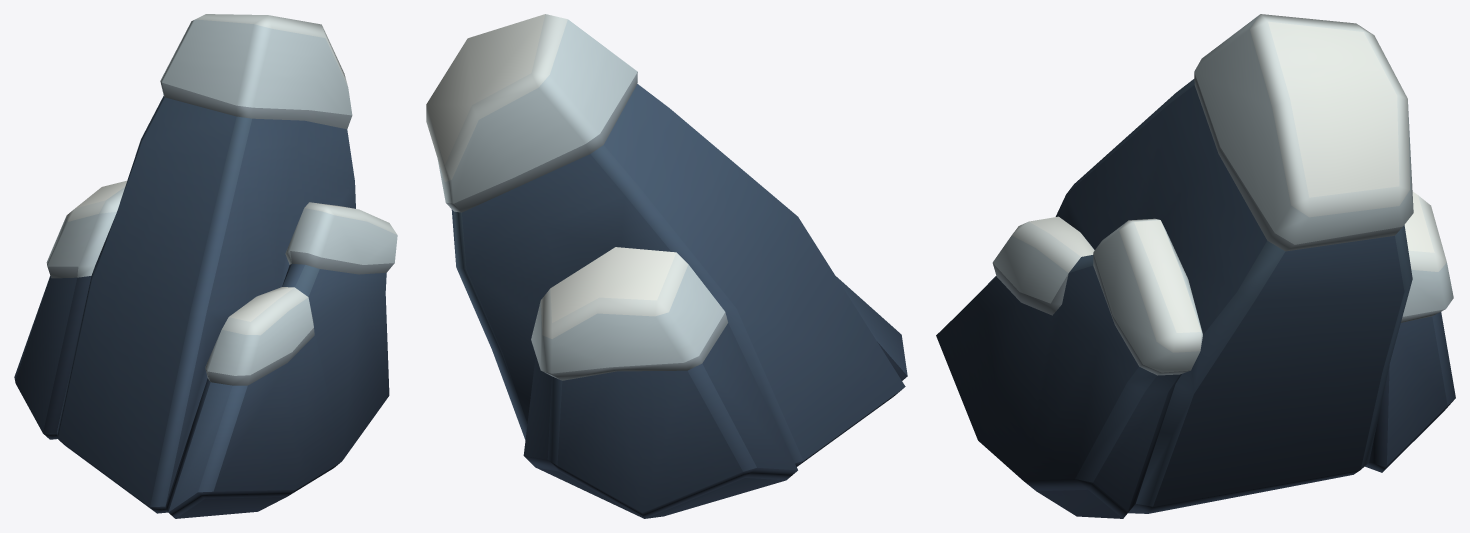
The model's file is rock_snow_013.fbx.
The picture shows the model from 3 angles, left to right: view 1: azimuth 30°, elevation 25°; view 2: azimuth 150°, elevation 25°; view 3: azimuth 270°, elevation 25°; orthographic projection. The views are drawn at different scales.
Parts seen in each view (by area): view 1: rock_snow_013; view 2: rock_snow_013; view 3: rock_snow_013.
Boxes of the visible parts, x1=… form: rock_snow_013: x1=14, y1=14, x2=397, y2=518; rock_snow_013: x1=426, y1=14, x2=907, y2=518; rock_snow_013: x1=936, y1=14, x2=1455, y2=518.
Size of the model in its own units: 268 by 324 by 295.
